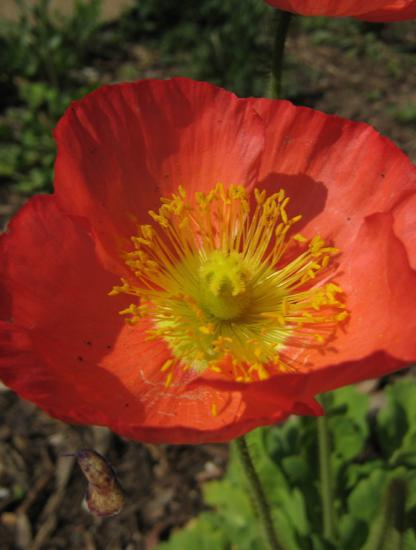Pear: (57, 447, 130, 520)
